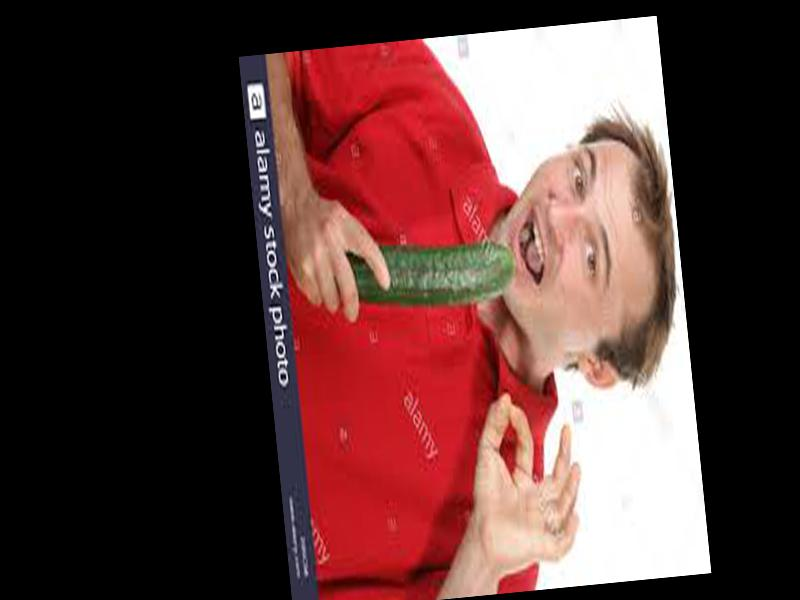Cucumber: (349, 240, 515, 306)
